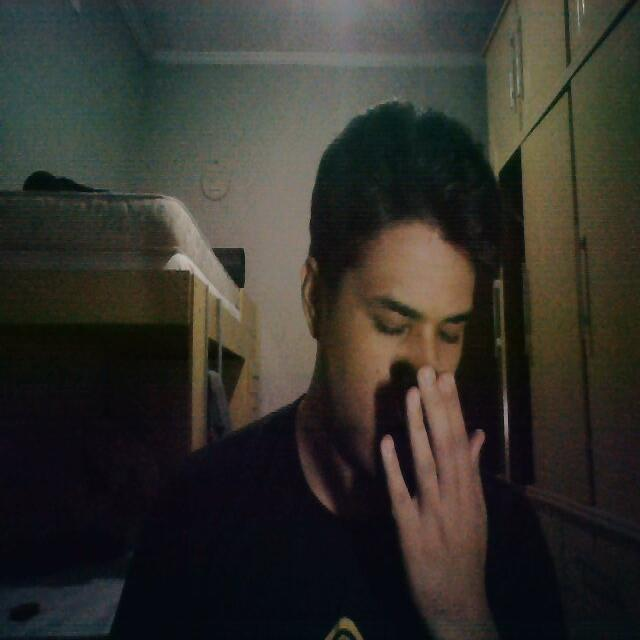sonolento: (322, 187, 487, 553)
